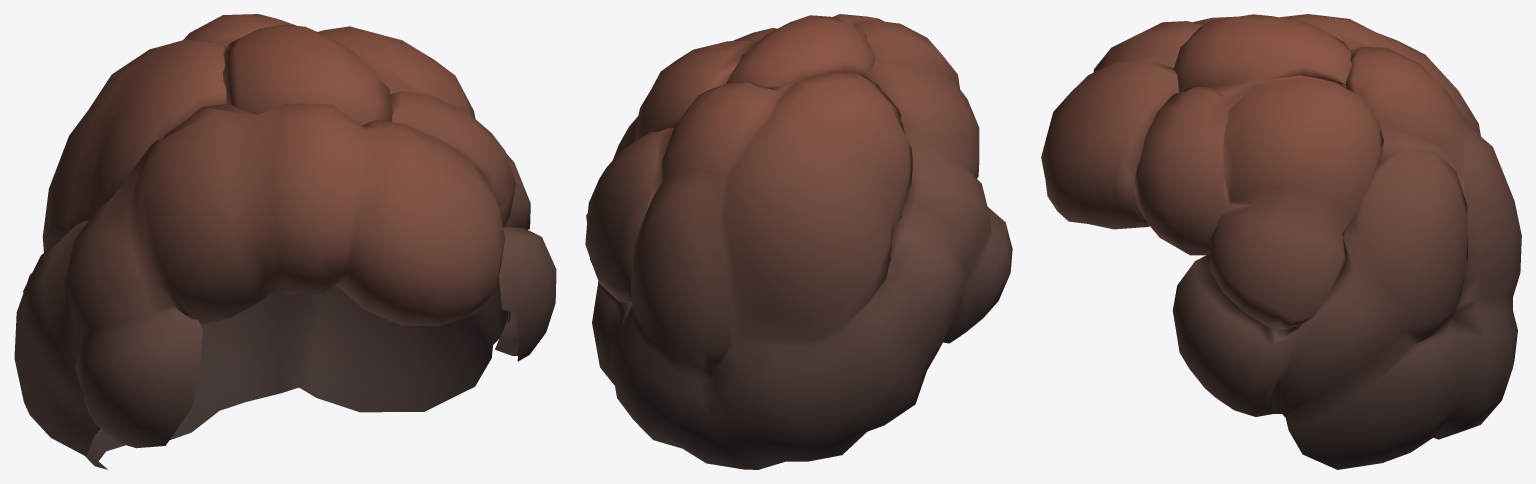
File: hairstyle_male_010.glb
The picture shows the model from 3 angles, left to right: view 1: azimuth 30°, elevation 25°; view 2: azimuth 150°, elevation 25°; view 3: azimuth 270°, elevation 25°; orthographic projection. The views are drawn at different scales.
Parts seen in each view (by area): view 1: Hairstyle_male_010; view 2: Hairstyle_male_010; view 3: Hairstyle_male_010.
Part boxes in pixels (box(x1,y1,x2,y2)): Hairstyle_male_010: box(14, 14, 556, 469); Hairstyle_male_010: box(585, 14, 1012, 469); Hairstyle_male_010: box(1041, 14, 1521, 469).
Size of the model in its own units: 0.2716 by 0.2601 by 0.2829.
1 material, 1 textured.
